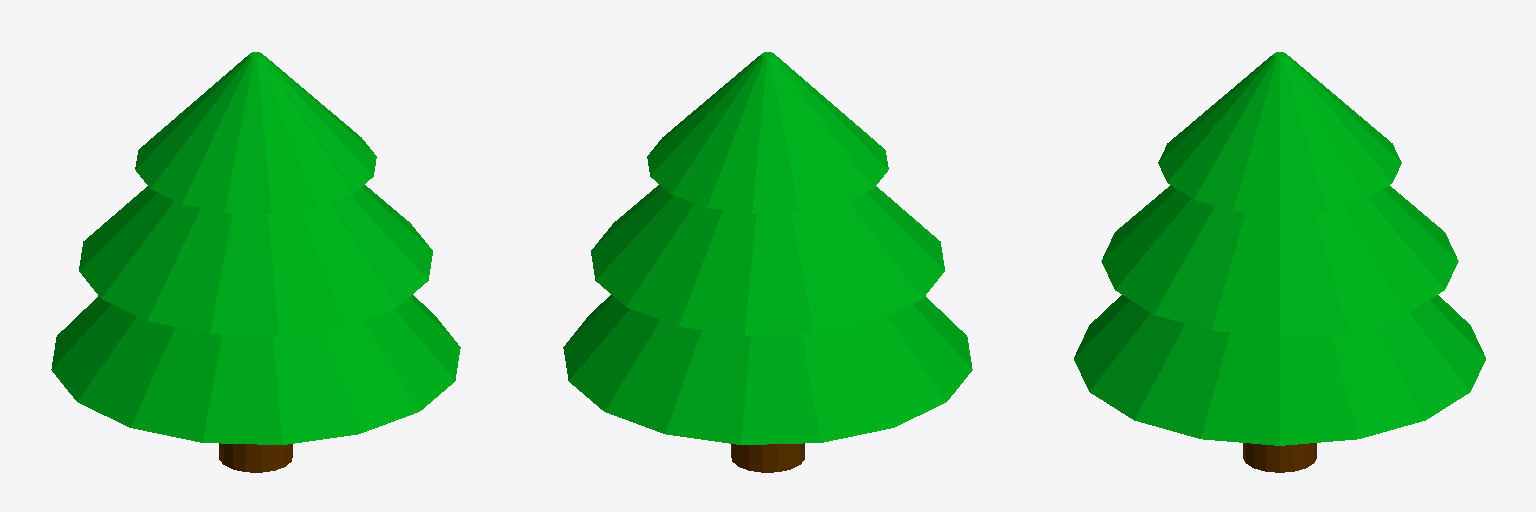
The model's file is tree.obj.
3 views of the same model, side by side, from view 1: azimuth 30°, elevation 25°; view 2: azimuth 150°, elevation 25°; view 3: azimuth 270°, elevation 25° (orthographic).
Visible parts, largest first — view 1: Cube2_copy7; view 2: Cube2_copy7; view 3: Cube2_copy7.
Boxes of the visible parts, x1=… form: Cube2_copy7: x1=51, y1=52, x2=460, y2=472; Cube2_copy7: x1=563, y1=52, x2=972, y2=472; Cube2_copy7: x1=1074, y1=52, x2=1485, y2=472.
Bounding box in the file's own units: 0.8753 × 0.9411 × 0.8753.